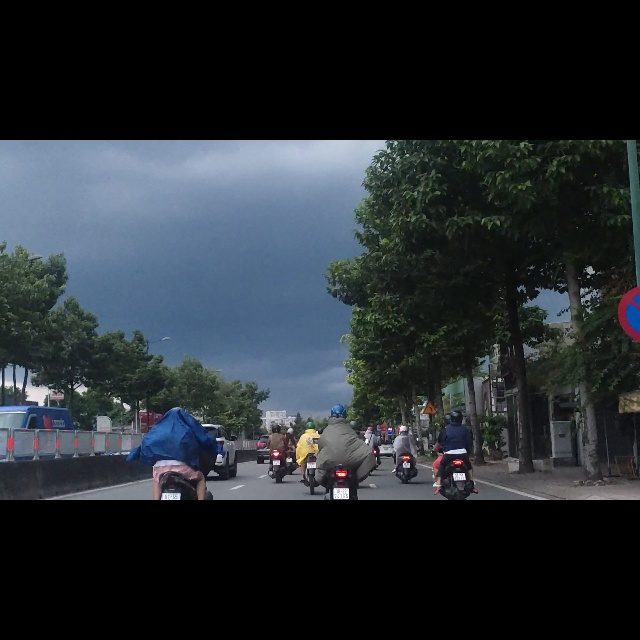bien_cam: (422, 464, 439, 488)
